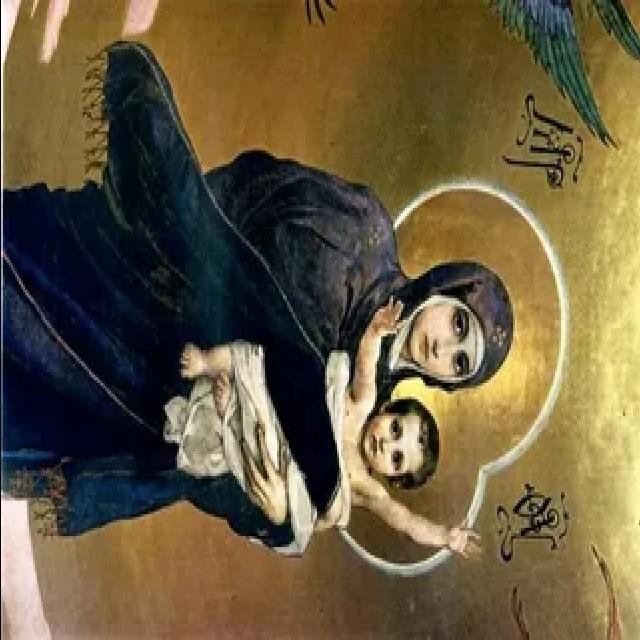mother of god: (0, 60, 518, 568)
